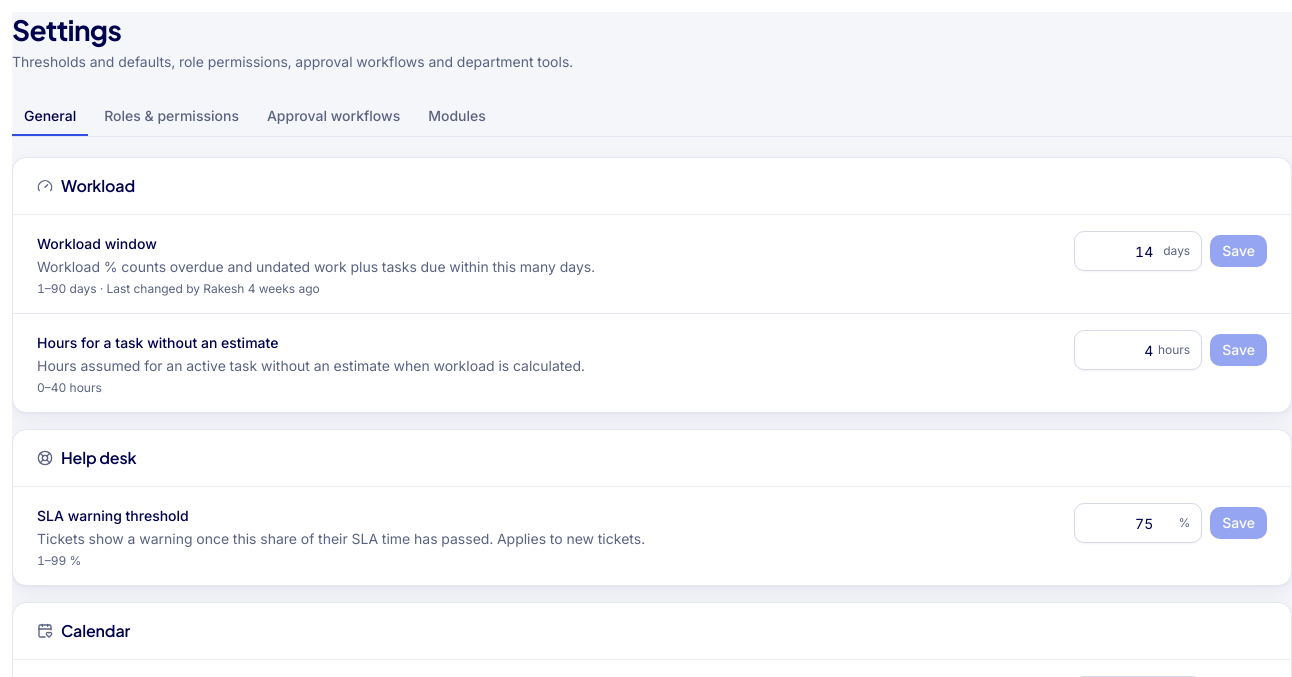
Test: SettingsPage › explains a conflicting edit
Clear the field labelled "SLA warning threshold": (1138, 523) x1=1074 y1=503 x2=1202 y2=543
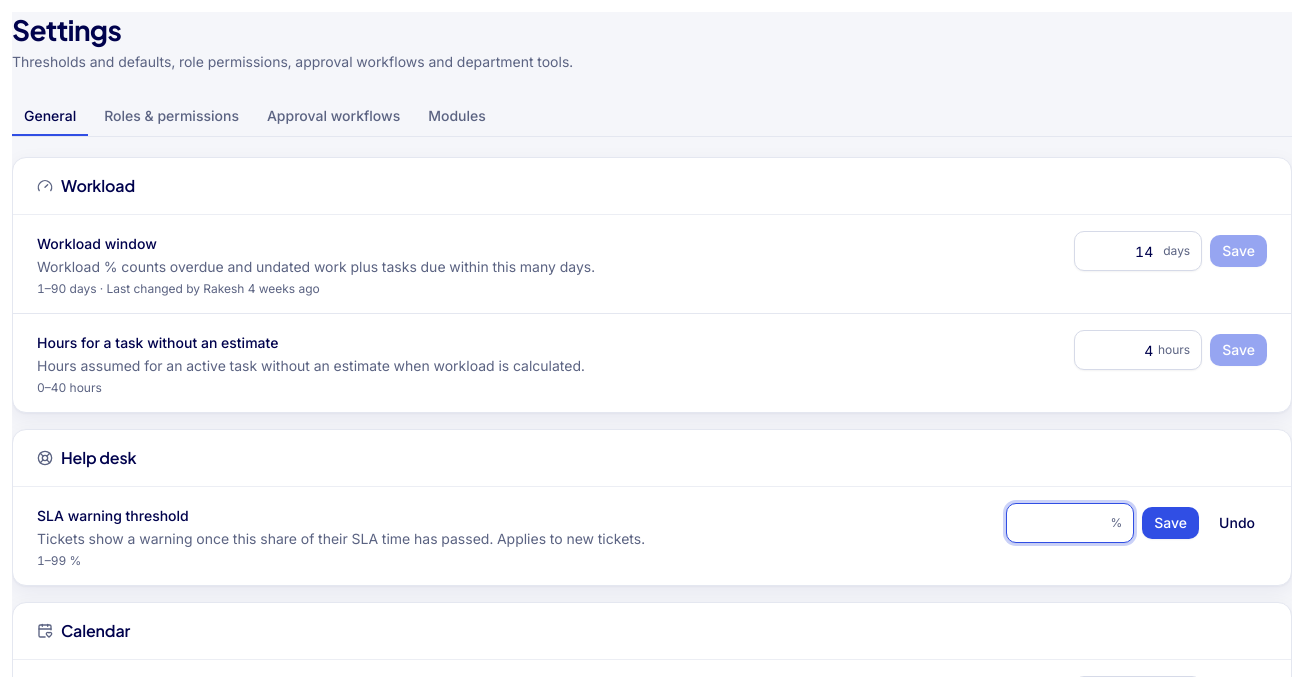
In the field labelled "SLA warning threshold": (1070, 523) x1=1006 y1=503 x2=1134 y2=543, type "80"
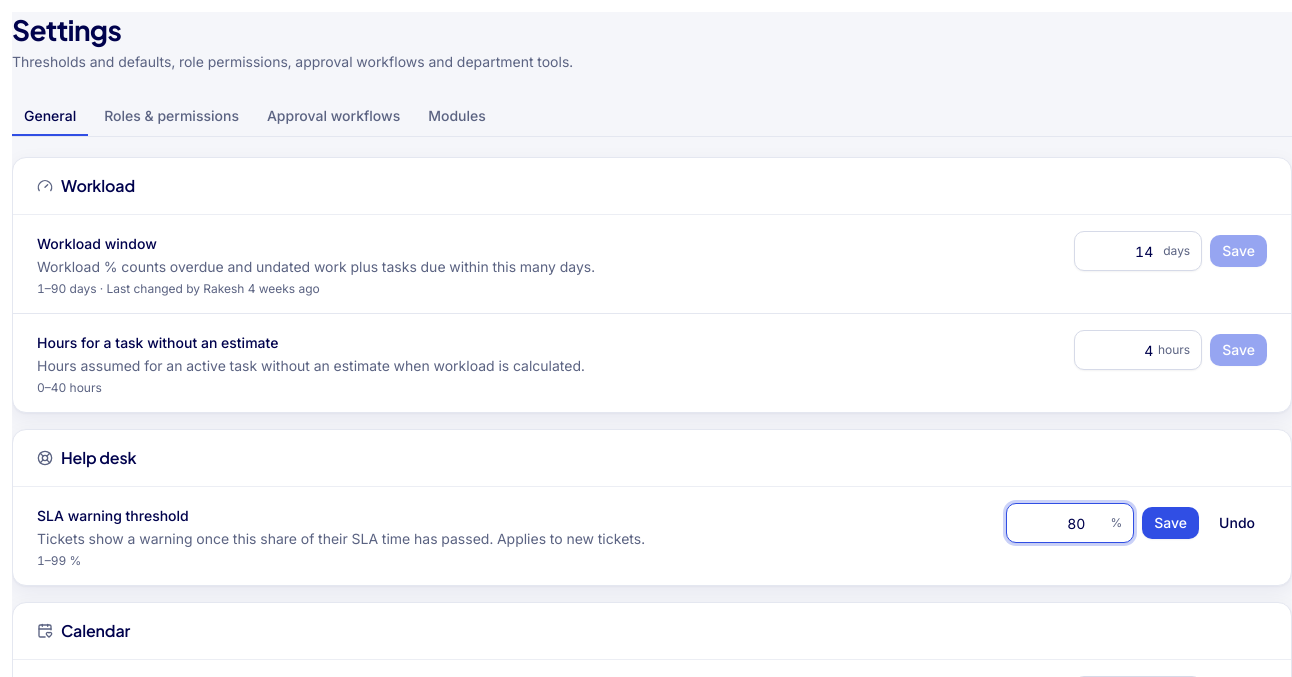
Click the button with aria-label "Save SLA warning threshold": (1171, 523) x1=1142 y1=507 x2=1199 y2=539
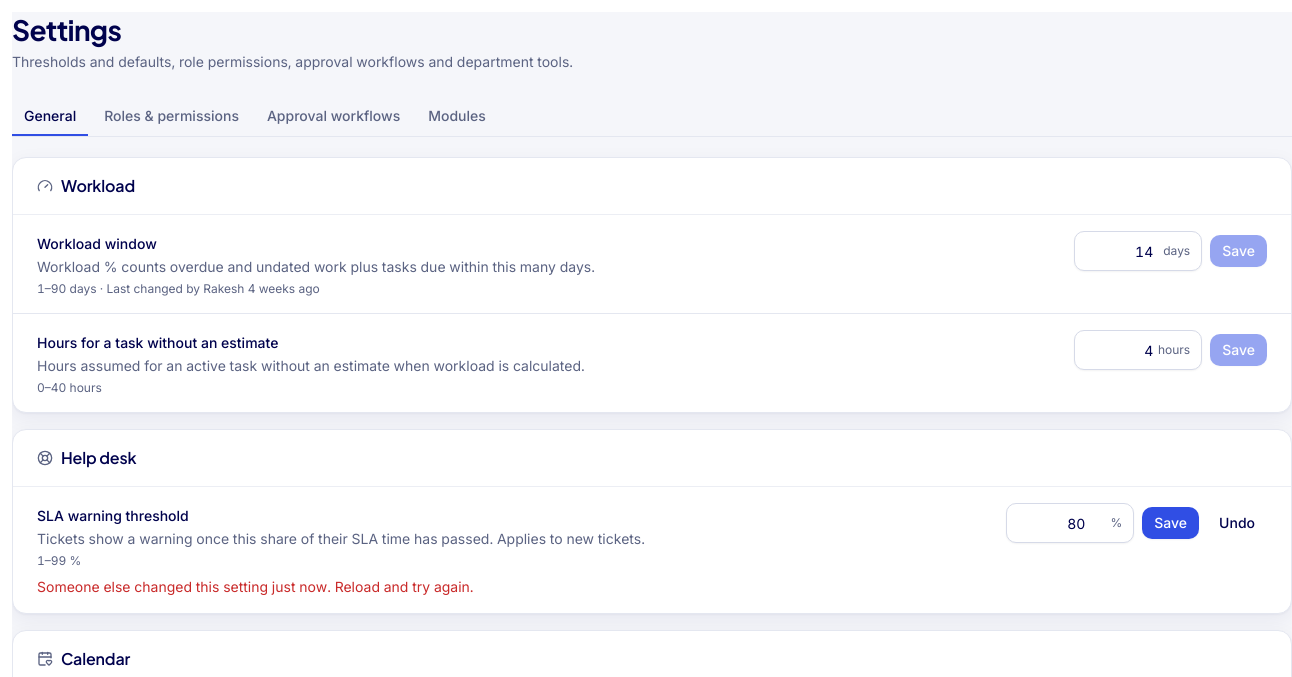
Expected: the message shows "Someone else changed this setting just now", x1=37 y1=578 x2=474 y2=595
